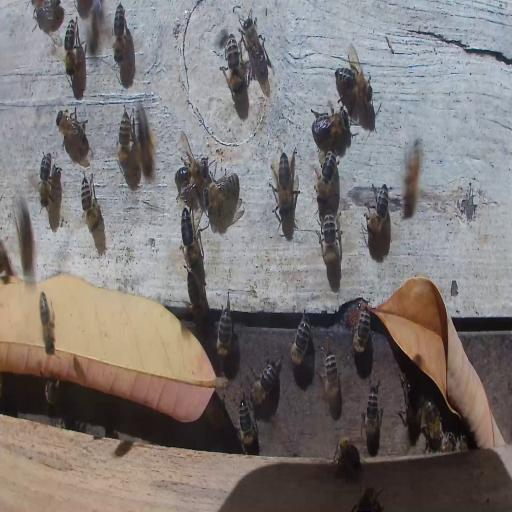nonpollenbee: (269, 147, 300, 223), (238, 9, 266, 80), (329, 63, 376, 105), (248, 357, 280, 410), (55, 106, 90, 154), (176, 138, 208, 190), (402, 138, 422, 218), (362, 381, 382, 453), (178, 206, 200, 270), (186, 269, 208, 333), (366, 182, 391, 236), (318, 210, 341, 266), (16, 200, 34, 271), (80, 174, 102, 232), (315, 149, 339, 202), (207, 170, 238, 210), (323, 348, 340, 419), (237, 395, 256, 455), (290, 314, 311, 367), (421, 398, 443, 448), (117, 105, 132, 178), (312, 108, 344, 142), (224, 36, 242, 96), (352, 302, 372, 356), (216, 300, 234, 358), (335, 436, 362, 472), (39, 150, 54, 209), (112, 3, 126, 62), (355, 485, 384, 511), (65, 19, 77, 77), (442, 430, 469, 453), (91, 0, 104, 43), (45, 377, 59, 406)
pollenbee: (134, 104, 157, 180), (37, 289, 58, 358)
